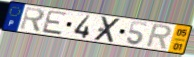4: (72, 14, 92, 40)
5: (126, 20, 150, 47)
E: (40, 10, 69, 37)
R: (144, 23, 173, 52), (18, 6, 46, 34)
X: (92, 16, 123, 44)
